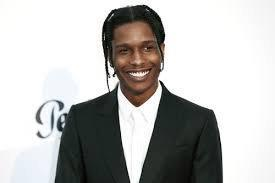Sober: (109, 26, 161, 88)
